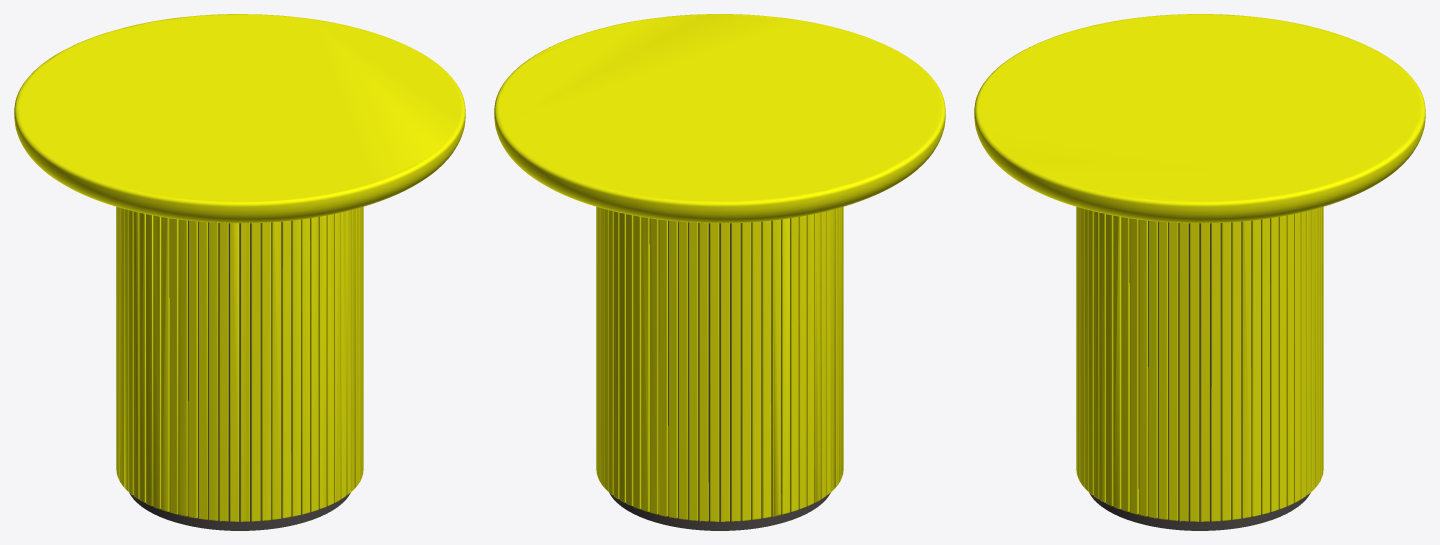
File: designconnected-colomn-base-lounge-tables-10965.optimized.glb
The picture shows the model from 3 angles, left to right: view 1: azimuth 30°, elevation 25°; view 2: azimuth 150°, elevation 25°; view 3: azimuth 270°, elevation 25°; orthographic projection.
Parts seen in each view (by area): view 1: Gubi_Moon_Lounge_Table_mat1; view 2: Gubi_Moon_Lounge_Table_mat1; view 3: Gubi_Moon_Lounge_Table_mat1.
Boxes of the visible parts, x1,y1,x2,y2 form: Gubi_Moon_Lounge_Table_mat1: [14, 14, 465, 530]; Gubi_Moon_Lounge_Table_mat1: [494, 14, 945, 530]; Gubi_Moon_Lounge_Table_mat1: [974, 14, 1425, 530].
Bounding box in the file's own units: 0.5996 × 0.55 × 0.5996.
